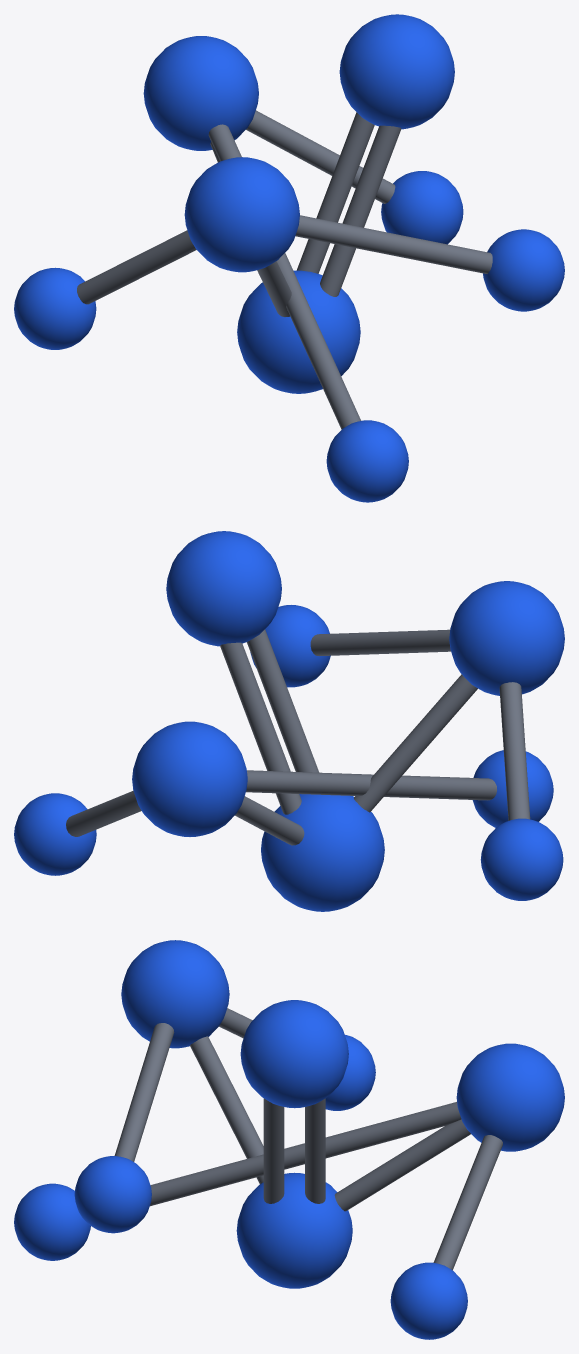
3 views of the same model, one above another, from view 1: azimuth 30°, elevation 25°; view 2: azimuth 150°, elevation 25°; view 3: azimuth 270°, elevation 25° (orthographic). The views are drawn at different scales.
Visible parts, largest first — view 1: N1, O1, N2, C1, H4, H1, H2, H3, object 13, object 16, object 9, object 10 (+3 smaller); view 2: C1, N2, O1, N1, H2, object 16, H3, H1, object 11, object 10, object 9, object 13 (+4 smaller); view 3: C1, O1, N2, N1, object 16, H3, H1, H4, object 12, object 13, object 15, object 11 (+4 smaller).
Part boxes in pixels (x1,y1,x2,y2): N1: (184, 157, 299, 272); O1: (339, 14, 454, 129); N2: (143, 36, 258, 150); C1: (237, 270, 360, 393); H4: (326, 420, 408, 502); H1: (483, 229, 564, 311); H2: (14, 267, 96, 349); H3: (381, 171, 463, 244); object 13: (295, 215, 492, 273); object 16: (208, 124, 361, 429); object 9: (320, 125, 401, 296); object 10: (296, 112, 374, 273); C1: (261, 794, 384, 911); N2: (132, 721, 247, 836); O1: (166, 531, 281, 646); N1: (449, 581, 564, 695); H2: (480, 818, 563, 900); object 16: (246, 770, 496, 800); H3: (14, 793, 96, 875); H1: (250, 605, 330, 687); object 11: (354, 674, 477, 812); object 10: (220, 642, 301, 814); object 9: (247, 629, 319, 772); object 13: (310, 629, 450, 656); C1: (236, 1172, 352, 1288); O1: (240, 1000, 348, 1108); N2: (456, 1043, 564, 1151); N1: (121, 940, 229, 1048); object 16: (150, 1102, 461, 1206); H3: (390, 1262, 467, 1339); H1: (74, 1156, 151, 1233); H4: (14, 1183, 90, 1260); object 12: (334, 1119, 470, 1211); object 13: (114, 1023, 174, 1161); object 15: (433, 1135, 502, 1270); object 11: (190, 1036, 263, 1183).
Size of the model in its own units: 0.4099 by 0.278 by 0.4271.
